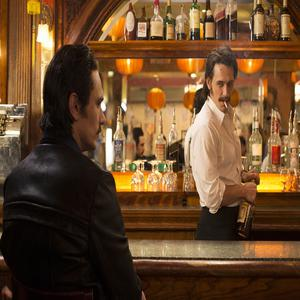cigarette: (224, 98, 230, 112)
